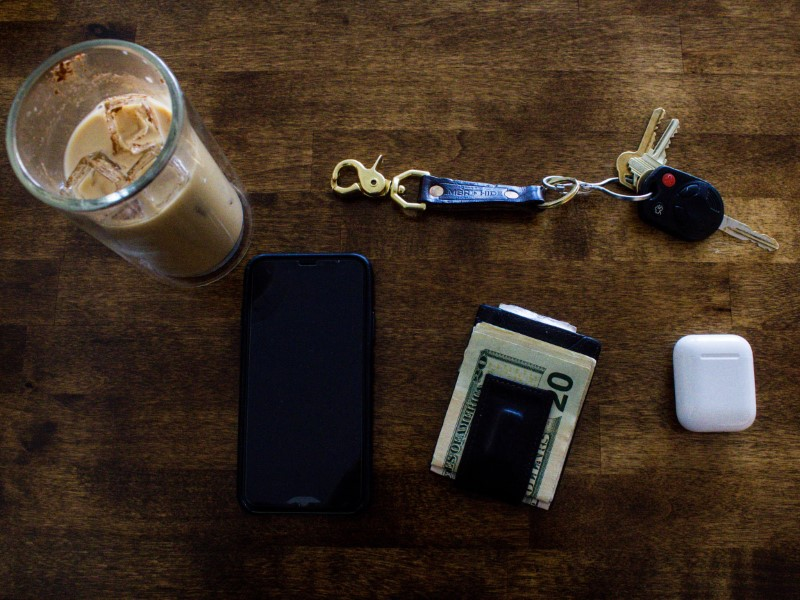carkey: (635, 161, 779, 253)
key: (611, 98, 687, 190)
